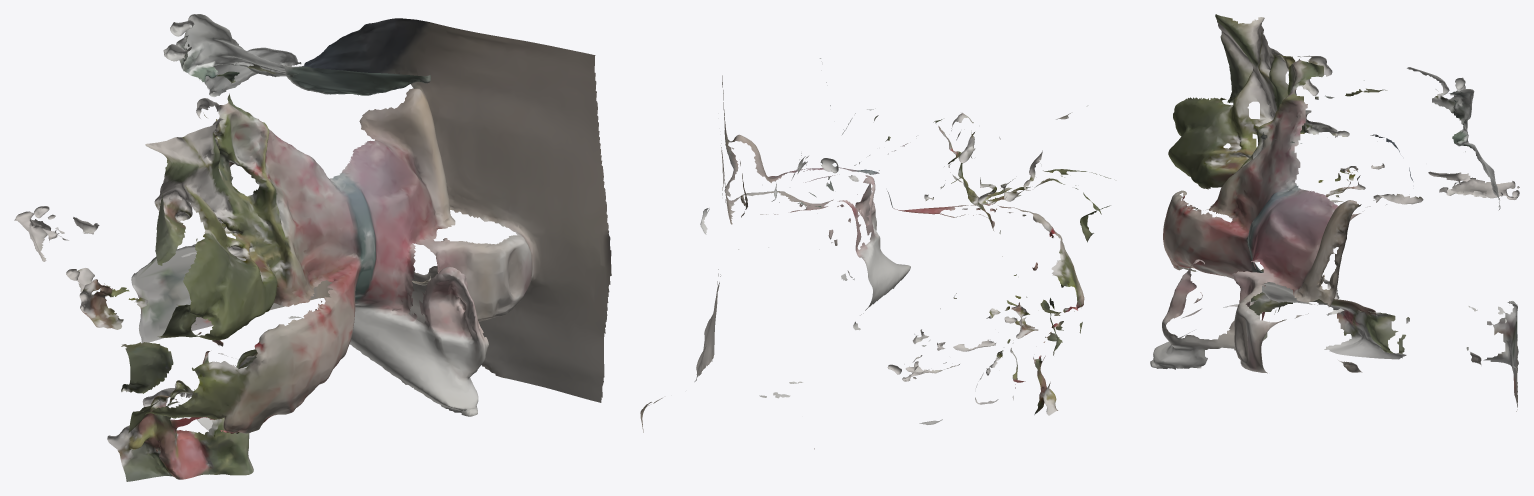
Rendered from mesh_8d7126f5cdc3.glb.
The picture shows the model from 3 angles, left to right: view 1: azimuth 30°, elevation 25°; view 2: azimuth 150°, elevation 25°; view 3: azimuth 270°, elevation 25°; orthographic projection. The views are drawn at different scales.
Bounding box in the file's own units: 1.33 × 0.997 × 1.15.
